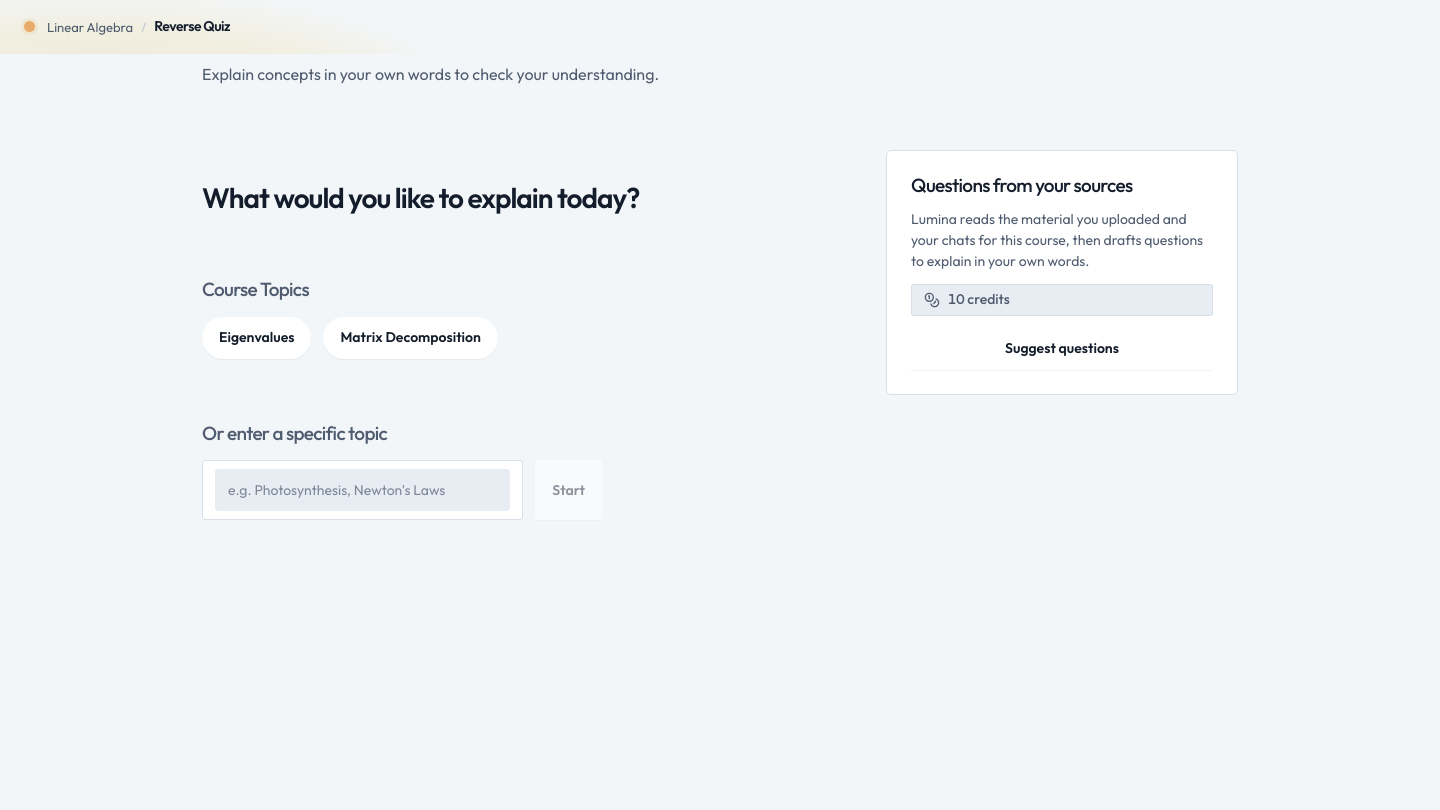
Test: ReverseQuizPage › submits explanation and displays feedback and misconceptions
Click the button "Eigenvalues". click: click(257, 338)
box: [202,316,312,358]
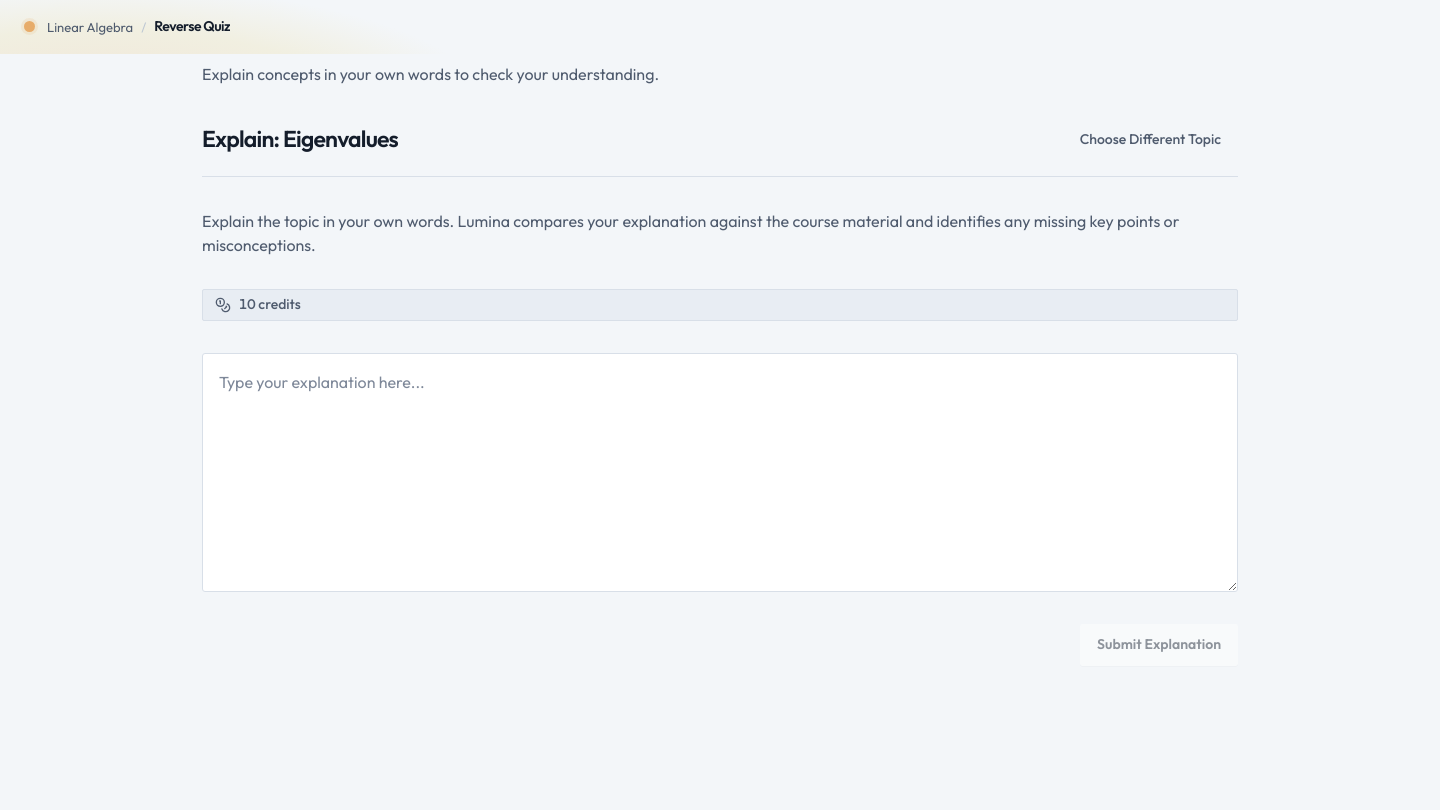
Type "Eigenvalues represent scalar factor of eigenvectors." into the text box. click: (720, 473)
box: [202,353,1238,592]
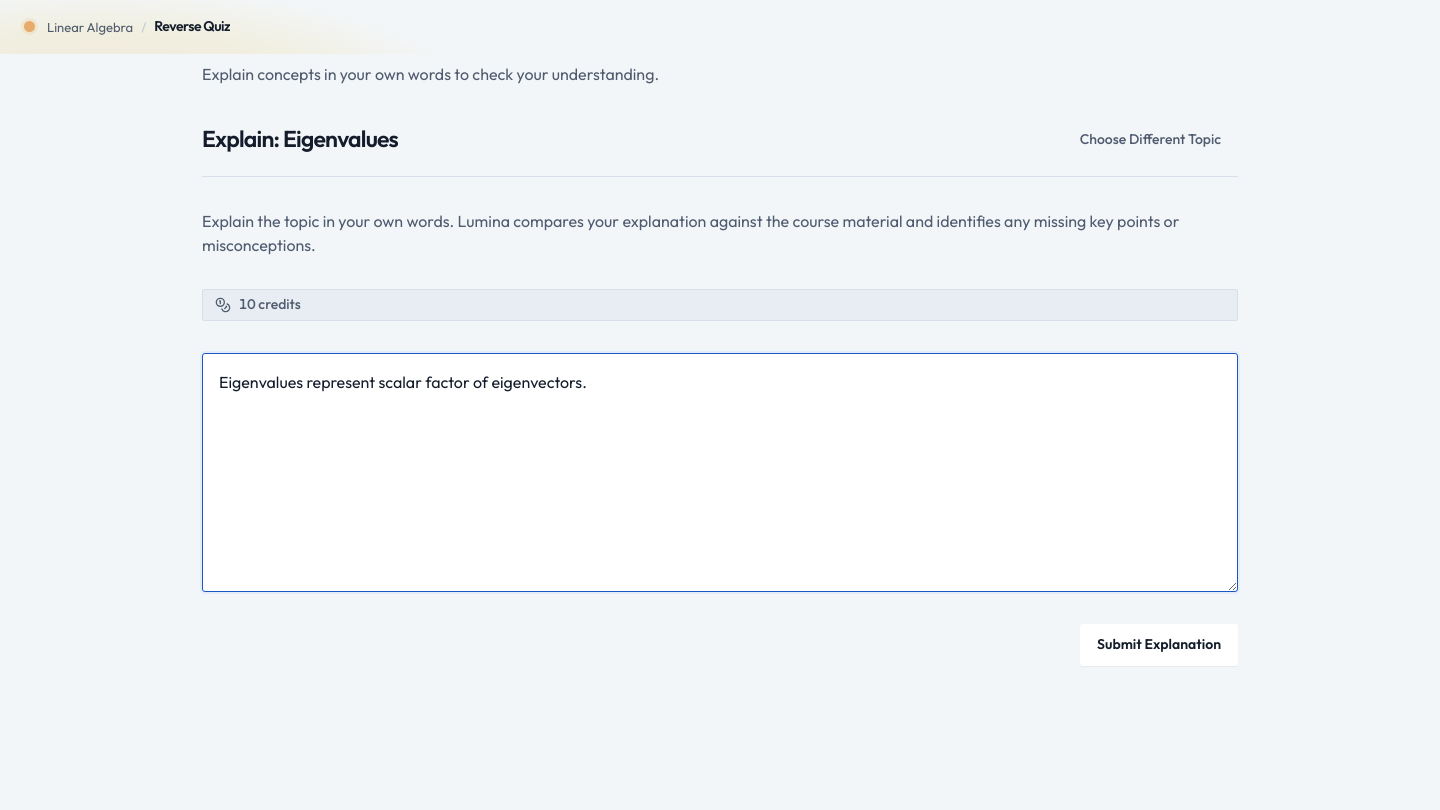
Click the button "Submit Explanation". click: click(1159, 645)
box: [1080,624,1238,666]
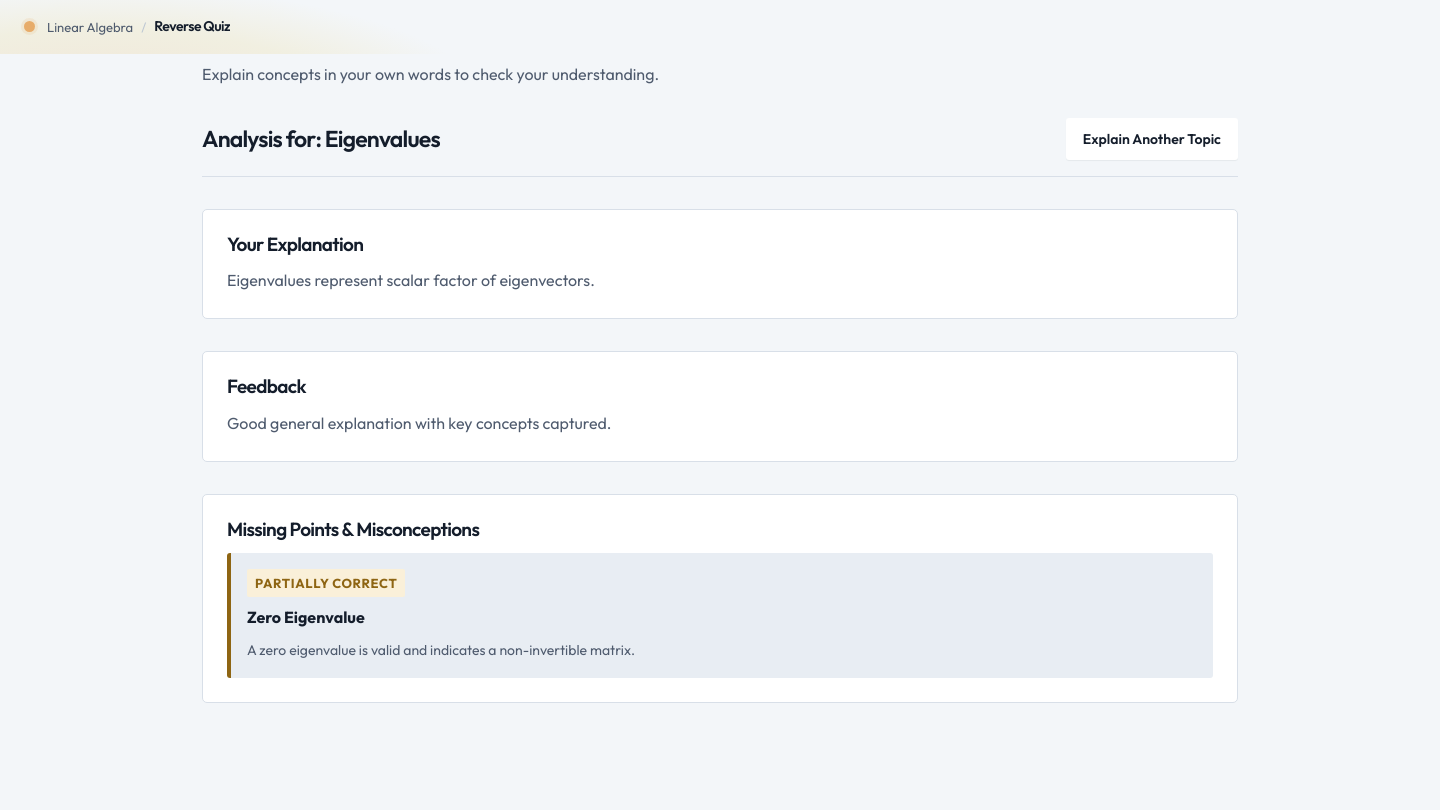
Expected: the heading "Analysis for: Eigenvalues" is shown, [202,126,440,153]
Expected: the text "Good general explanation with key concepts captured." is shown, [227,413,612,433]
Expected: the text "Zero Eigenvalue" is shown, [247,607,365,627]
